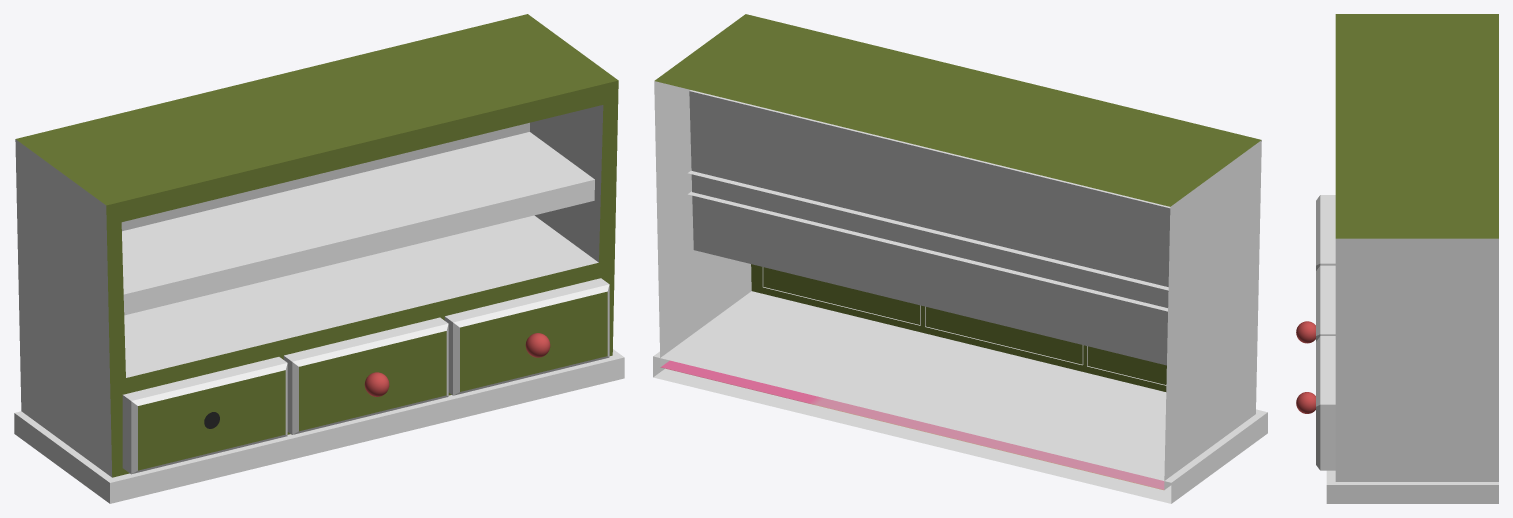
File: Kitchen shelf.fbx
The picture shows the model from 3 angles, left to right: view 1: azimuth 30°, elevation 25°; view 2: azimuth 150°, elevation 25°; view 3: azimuth 270°, elevation 25°; orthographic projection. The views are drawn at different scales.
Visible parts, largest first — view 1: Kitchen shelf; view 2: Kitchen shelf; view 3: Kitchen shelf.
Part boxes in pixels (x1,y1,x2,y2): Kitchen shelf: (14, 14, 624, 503); Kitchen shelf: (653, 14, 1267, 503); Kitchen shelf: (1296, 14, 1498, 503).
Size of the model in its own units: 253 by 138 by 95.89.
